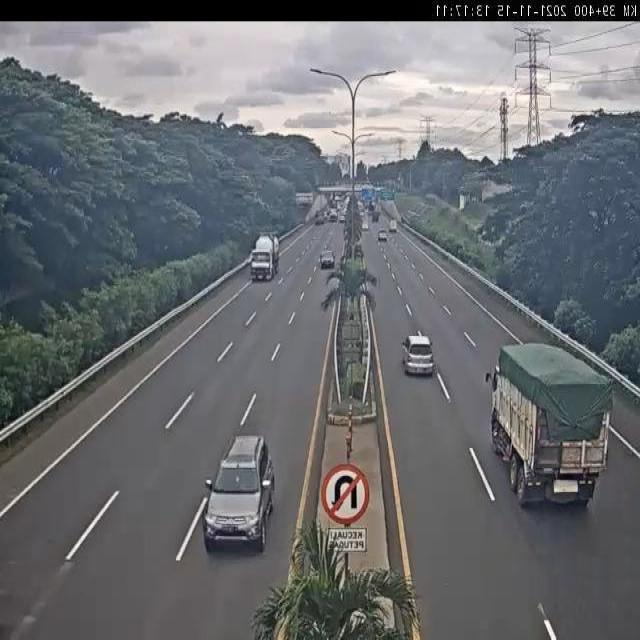Car: (197, 413, 283, 563), (404, 307, 436, 383), (312, 239, 341, 281), (376, 223, 389, 248), (315, 202, 326, 228), (357, 218, 371, 235), (387, 217, 400, 235), (330, 205, 339, 225), (338, 209, 349, 224)
Truck: (485, 330, 620, 524), (250, 224, 280, 296)
